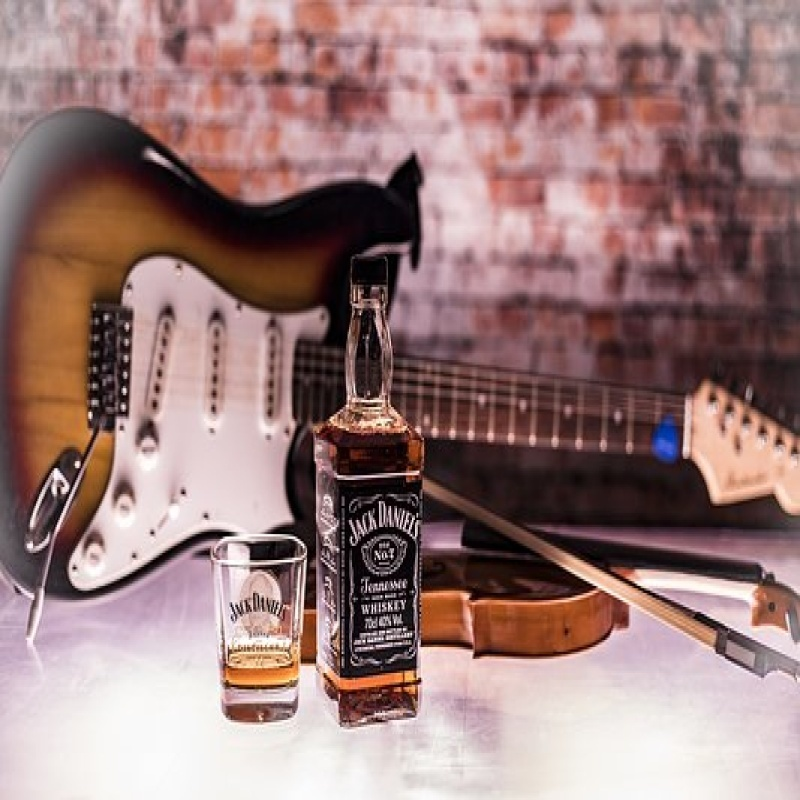whiskey: (199, 532, 305, 720)
